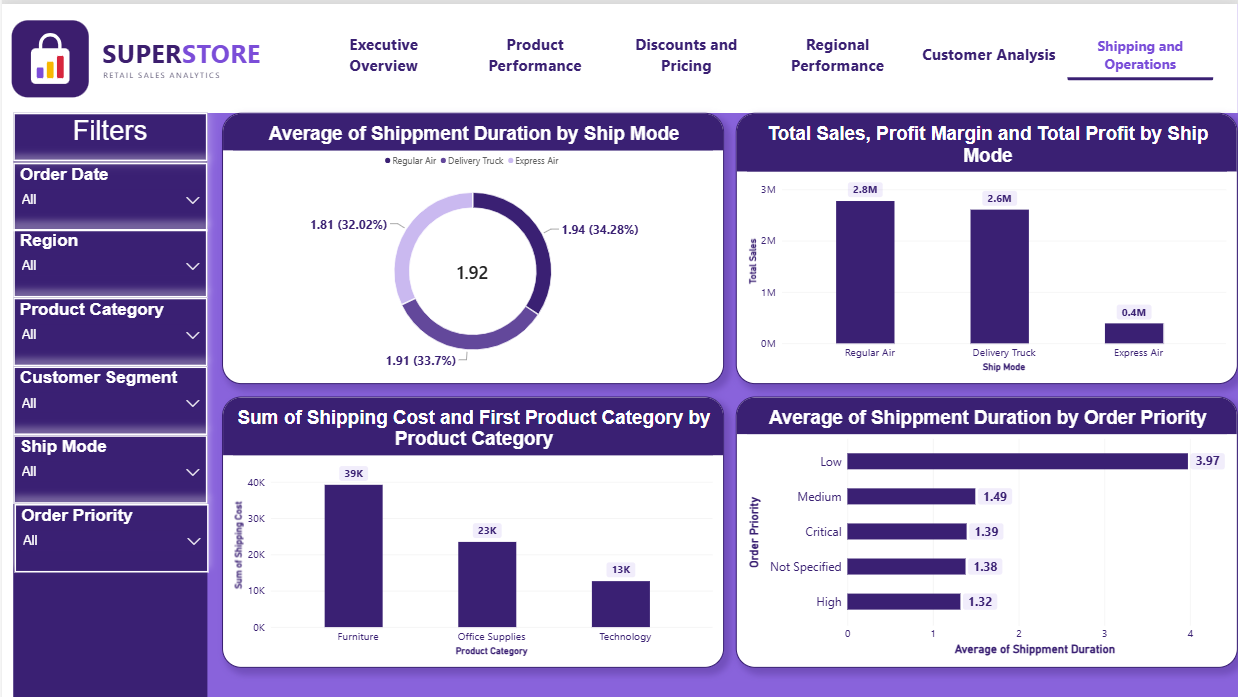

Layout of this report page (visuals, bound fields, positions):
{"tool":"powerbi","page":{"name":"Shipping and Operations","canvas":[1920,1080],"ordinal":6},"visuals":[{"type":"shape","box":[0,140.9,18.8,939.1],"z":0},{"type":"shape","title":"Super Store Analysis Dashboard","box":[0,0,1919.6,169.3],"z":1000},{"type":"image","box":[0,0,479.5,170],"z":2000},{"type":"pageNavigator","box":[480.4,38.7,1404.3,81],"z":3000},{"type":"shape","box":[18.4,169,301.8,911],"z":4000},{"type":"textbox","box":[18.4,169.3,301.8,75.5],"z":5000},{"type":"slicer","fields":{"Values":["Final Sales Data.Order Date"]},"box":[18.4,246.6,301.8,106.7],"z":6000},{"type":"slicer","fields":{"Values":["Customers Data.Region"]},"box":[18.4,349.7,301.8,106.7],"z":7000},{"type":"slicer","fields":{"Values":["Products Data.Product Category"]},"box":[18.4,456.4,301.8,106.7],"z":8000},{"type":"slicer","fields":{"Values":["Customers Data.Customer Segment"]},"box":[18.4,563.2,301.8,106.7],"z":9000},{"type":"slicer","fields":{"Values":["Final Sales Data.Ship Mode"]},"box":[18.4,669.9,301.8,106.7],"z":10000},{"type":"slicer","fields":{"Values":["Final Sales Data.Order Priority"]},"box":[19.1,777.6,301.8,106.7],"z":11000},{"type":"clusteredColumnChart","fields":{"Category":["Final Sales Data.Ship Mode"],"Y":["Measures Table.Total Sales"]},"box":[1140.2,169.4,779.8,421.4],"z":12000},{"type":"donutChart","fields":{"Category":["Final Sales Data.Ship Mode"],"Y":["Avg(Final Sales Data.Shippment Duration)"]},"box":[341.7,168.9,779.8,421.4],"z":13000},{"type":"clusteredBarChart","fields":{"Category":["Final Sales Data.Order Priority"],"Y":["Avg(Final Sales Data.Shippment Duration)"]},"box":[1139.8,609.7,779.8,421.4],"z":14000},{"type":"clusteredColumnChart","fields":{"Category":["Products Data.Product Category"],"Y":["Sum(Final Sales Data.Shipping Cost)"]},"box":[341.7,609.7,779.8,421.4],"z":15000}]}

Visuals, with their boxes in screenshot pixels (x1, y1, x2, y2), scaled from the page's 1920x1080 canvas onto the 1238x697 screenshot:
shape: x1=0 y1=91 x2=12 y2=696
"Super Store Analysis Dashboard" shape: x1=0 y1=0 x2=1237 y2=109
image: x1=0 y1=0 x2=309 y2=110
pageNavigator: x1=310 y1=25 x2=1215 y2=77
shape: x1=12 y1=109 x2=206 y2=696
textbox: x1=12 y1=109 x2=206 y2=158
slicer - Final Sales Data.Order Date: x1=12 y1=159 x2=206 y2=228
slicer - Customers Data.Region: x1=12 y1=226 x2=206 y2=295
slicer - Products Data.Product Category: x1=12 y1=295 x2=206 y2=363
slicer - Customers Data.Customer Segment: x1=12 y1=363 x2=206 y2=432
slicer - Final Sales Data.Ship Mode: x1=12 y1=432 x2=206 y2=501
slicer - Final Sales Data.Order Priority: x1=12 y1=502 x2=207 y2=571
clusteredColumnChart - Final Sales Data.Ship Mode x Measures Table.Total Sales: x1=735 y1=109 x2=1237 y2=381
donutChart - Final Sales Data.Ship Mode x Avg(Final Sales Data.Shippment Duration): x1=220 y1=109 x2=723 y2=381
clusteredBarChart - Final Sales Data.Order Priority x Avg(Final Sales Data.Shippment Duration): x1=735 y1=393 x2=1237 y2=665
clusteredColumnChart - Products Data.Product Category x Sum(Final Sales Data.Shipping Cost): x1=220 y1=393 x2=723 y2=665
